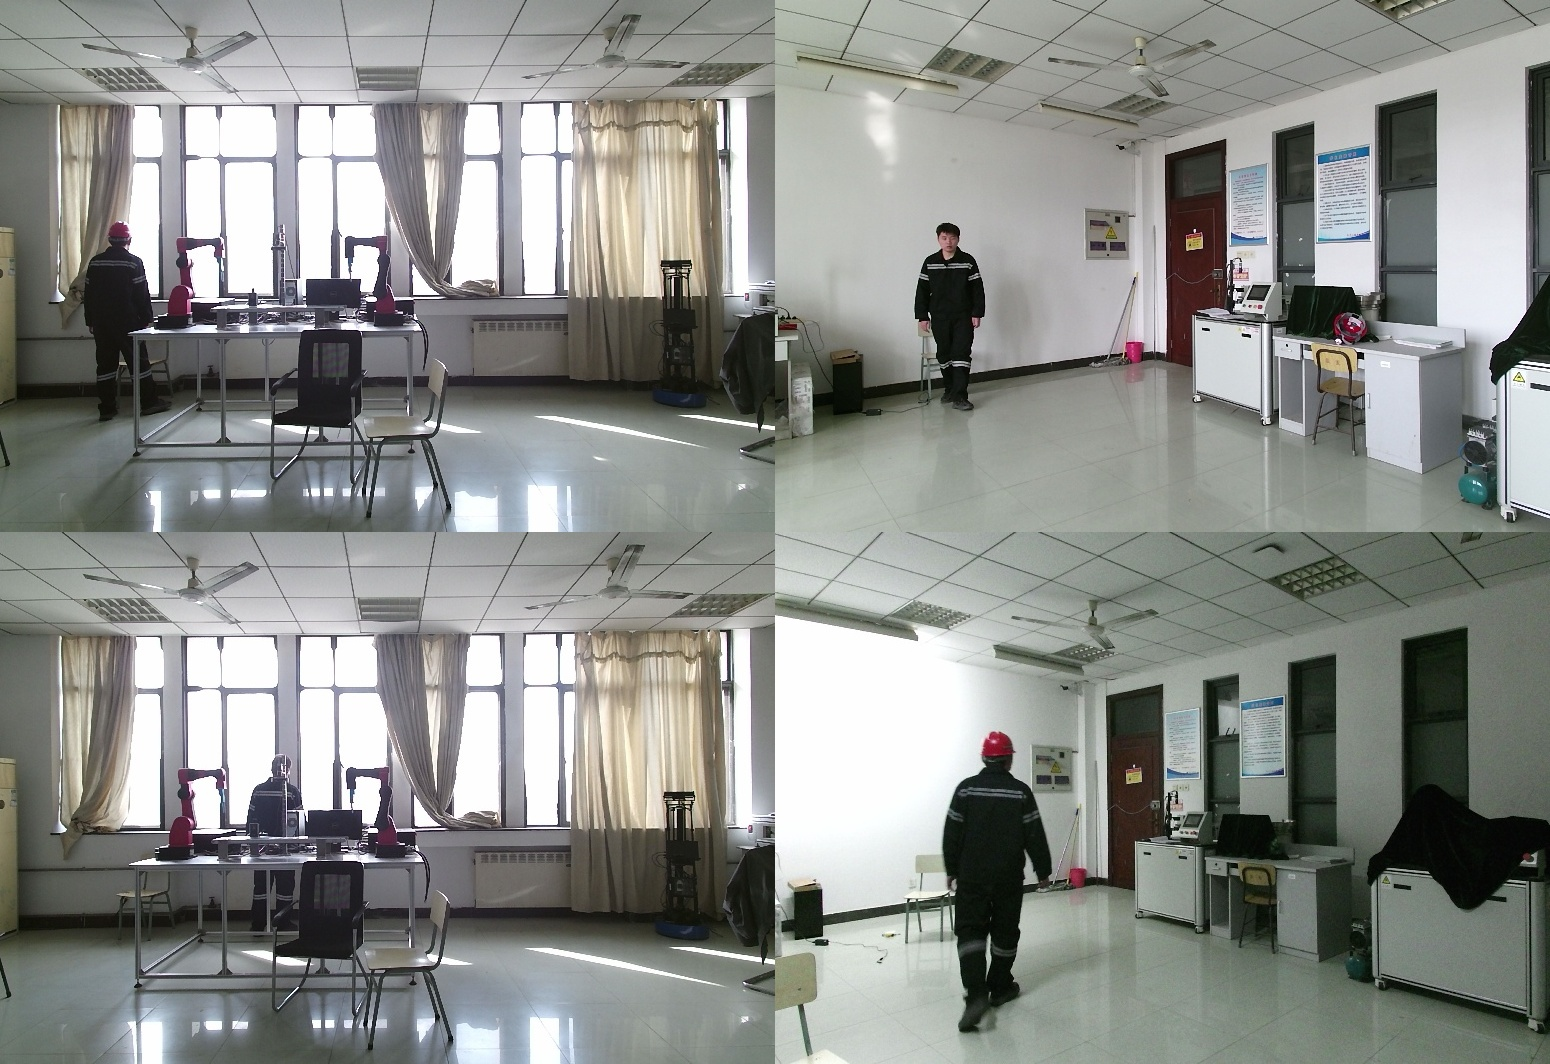person: (932, 734, 1046, 1035), (74, 222, 165, 424), (910, 225, 984, 412), (247, 756, 314, 948)
